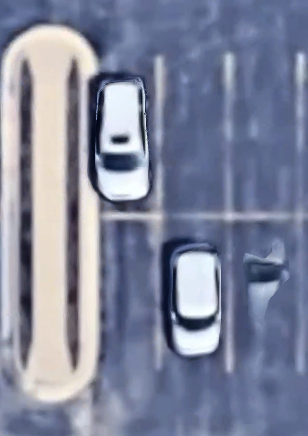Occupied: (90, 55, 159, 216), (230, 216, 300, 372), (159, 216, 229, 370)
Vacant: (228, 56, 300, 216), (159, 56, 230, 216), (89, 215, 158, 369)
